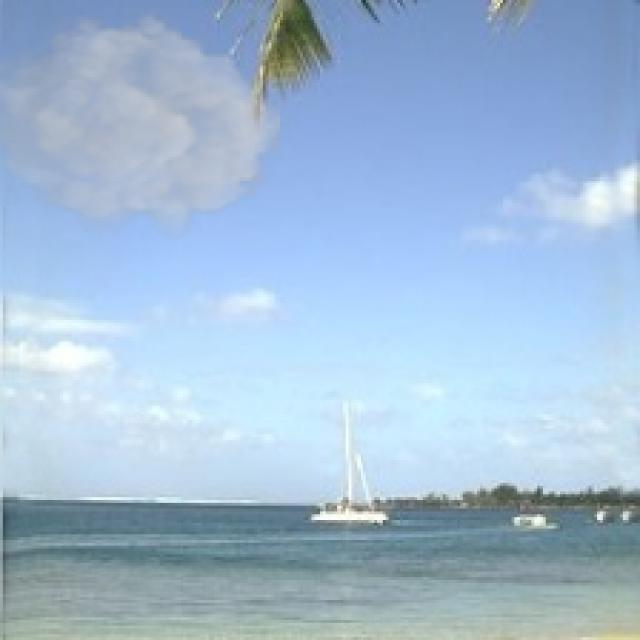Smoke: (0, 6, 280, 240)
